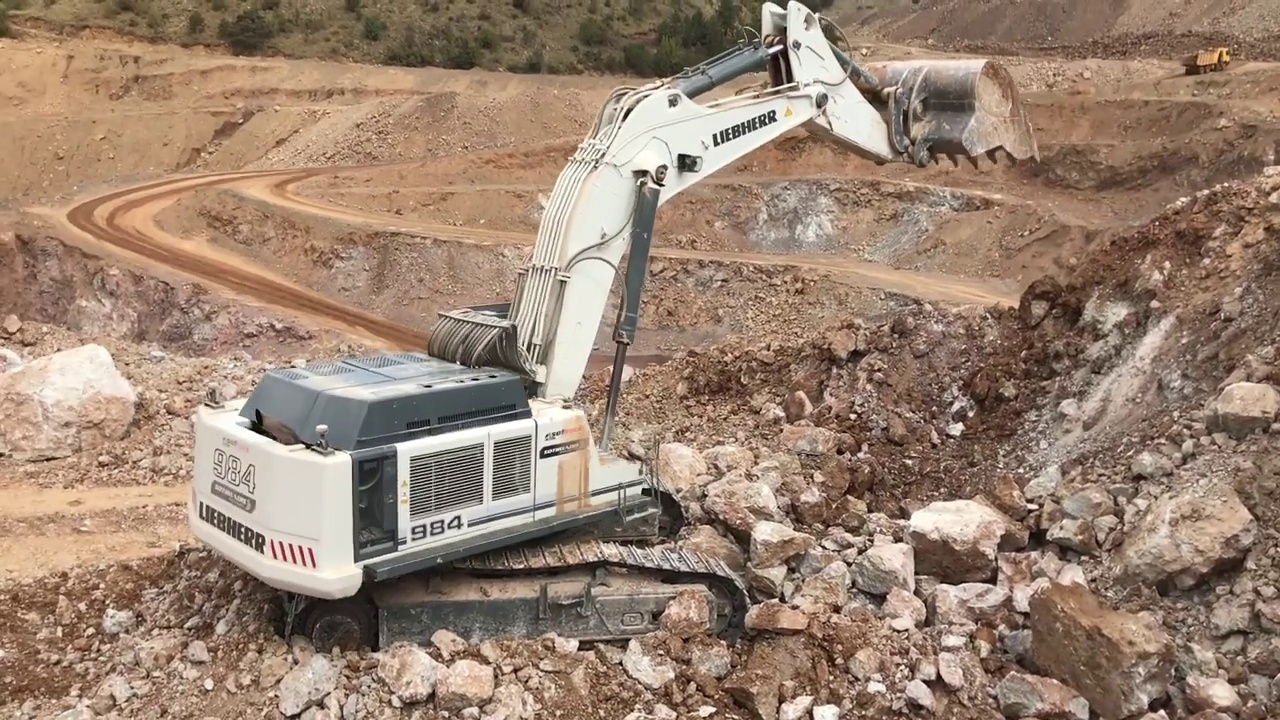excavator: (191, 1, 1039, 653)
truck: (1180, 43, 1233, 75)
